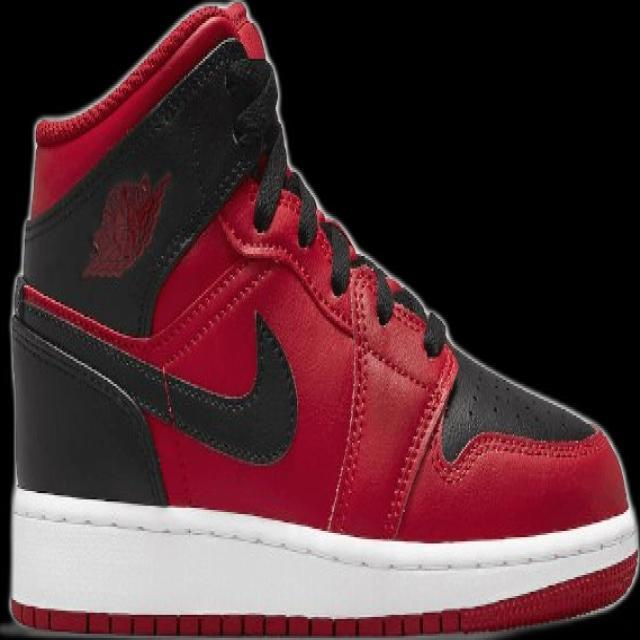J1_InsoleChar: (4, 0, 638, 639)
J1_ShoeLogo: (79, 168, 173, 281)
J1_StitchPattern: (12, 175, 602, 490), (13, 22, 302, 468), (276, 164, 603, 463), (9, 486, 637, 579), (10, 272, 299, 465), (314, 206, 455, 537), (253, 164, 445, 355), (33, 1, 246, 145), (440, 335, 603, 462), (9, 315, 160, 428), (381, 361, 458, 539), (323, 266, 374, 533), (162, 258, 275, 369), (313, 212, 398, 325)
